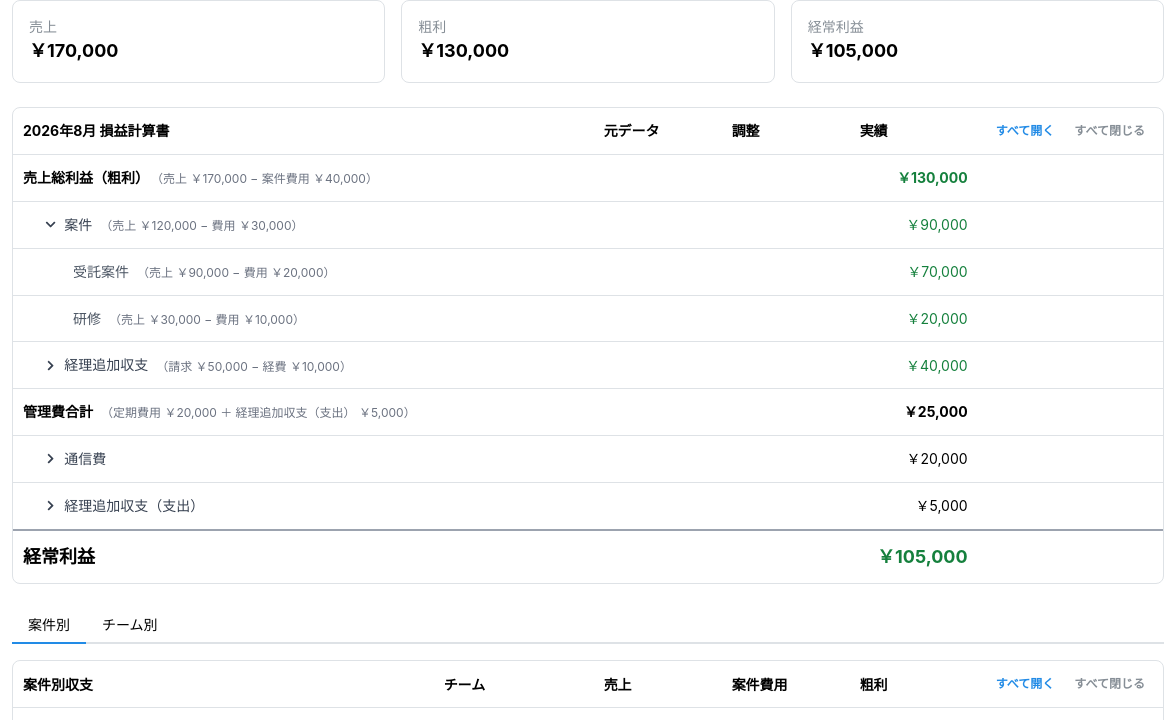
Test: ProfitLossStatement のサマリーカードと損益計算書（Issue #164） › 売上総利益の内訳に案件（分類別の粗利を初期表示で展開）と経理追加収支（収入）を表示する
expect the row "案件 （売上 ￥120,000 − 費用 ￥30,000） ￥90,000" is shown: met, box left=13, top=201, right=1163, bottom=248
expect the row "受託案件（売上 ￥90,000 − 費用 ￥20,000） ￥70,000" is shown: met, box left=13, top=248, right=1163, bottom=295
Click the button "経理追加収支": (97, 365) left=45, top=354, right=148, bottom=376
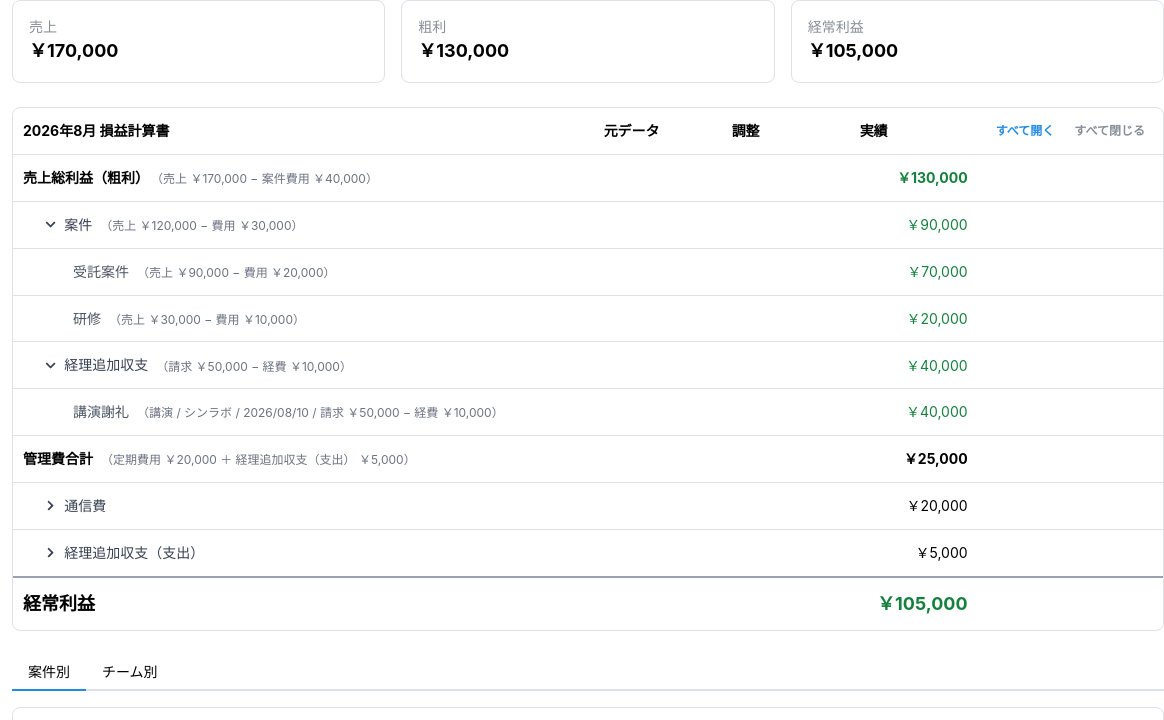
expect the row that starts with "講演謝礼" shows "￥40,000": met, box left=906, top=403, right=968, bottom=420
